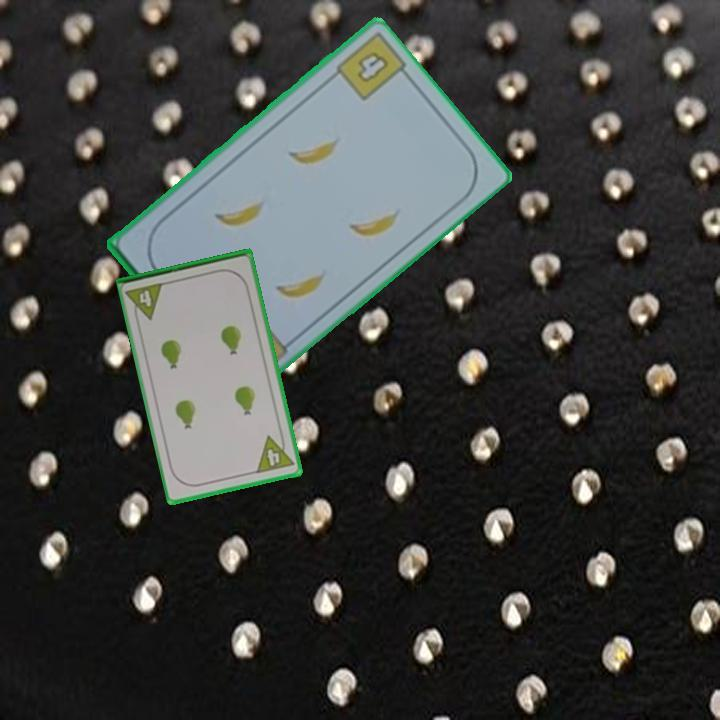4b: (353, 47, 392, 86)
4p: (253, 429, 297, 476), (123, 279, 167, 325)
